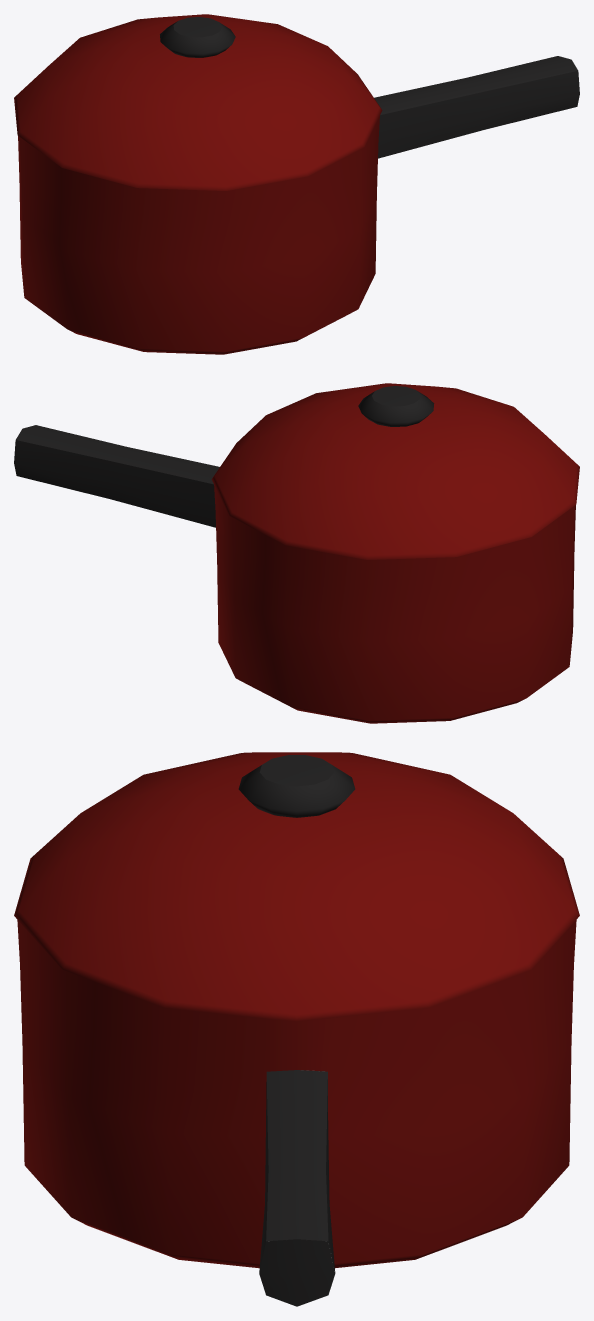
The model's file is kitchen_pot.fbx.
3 views of the same model, one above another, from view 1: azimuth 30°, elevation 25°; view 2: azimuth 150°, elevation 25°; view 3: azimuth 270°, elevation 25° (orthographic). The views are drawn at different scales.
Parts seen in each view (by area): view 1: pCylinder1, pCylinder2; view 2: pCylinder1, pCylinder2; view 3: pCylinder1, pCylinder2.
Boxes of the visible parts, x1,y1,x2,y2 form: pCylinder1: (18,56,579,354); pCylinder2: (14,14,382,190); pCylinder1: (14,425,575,723); pCylinder2: (211,383,579,559); pCylinder1: (17,920,576,1306); pCylinder2: (14,752,579,1021).
Size of the model in its own units: 2.92 by 1.36 by 1.76.
2 materials, 2 textured.
